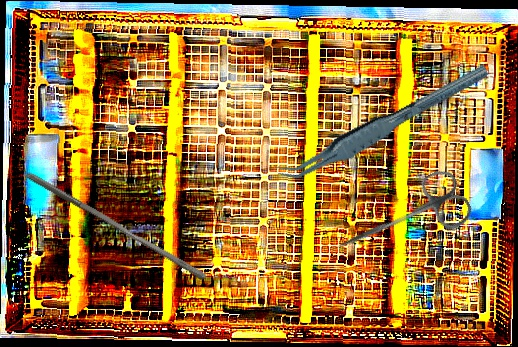Iris Scissors: (325, 164, 477, 277)
Pusher: (20, 170, 212, 282)
Tissue Forceps: (266, 62, 500, 187)
